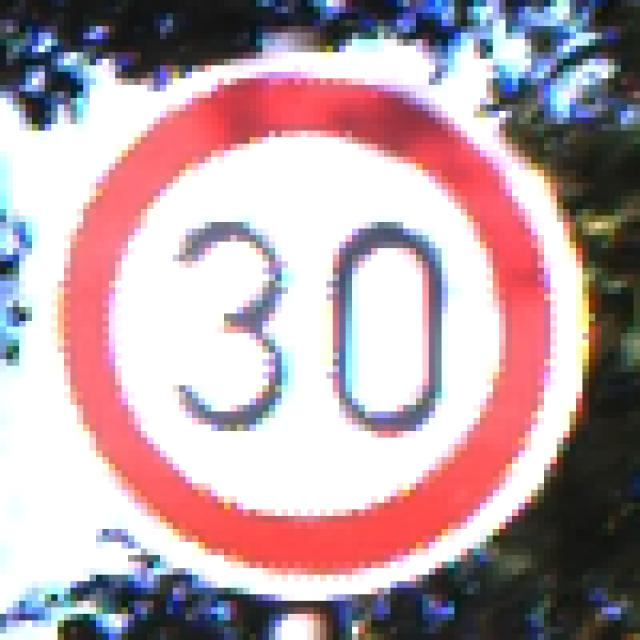Speed Limit -30-: (48, 49, 586, 584)
